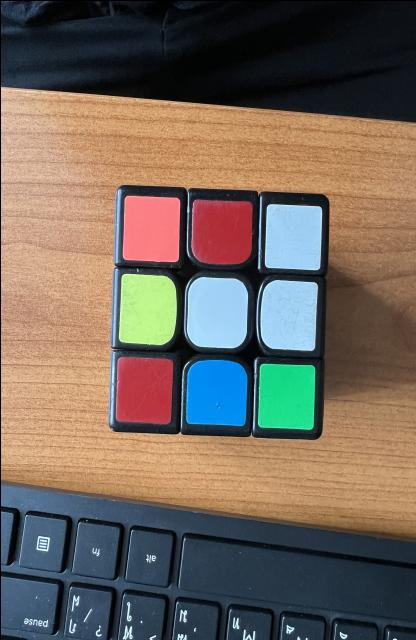Blue: (185, 359, 247, 425)
Green: (257, 362, 314, 429)
Orange: (121, 195, 180, 261)
Red: (191, 199, 251, 264), (115, 356, 172, 422)
White: (186, 276, 247, 348), (259, 279, 316, 350), (264, 204, 322, 270)
Yellow: (118, 272, 176, 344)
